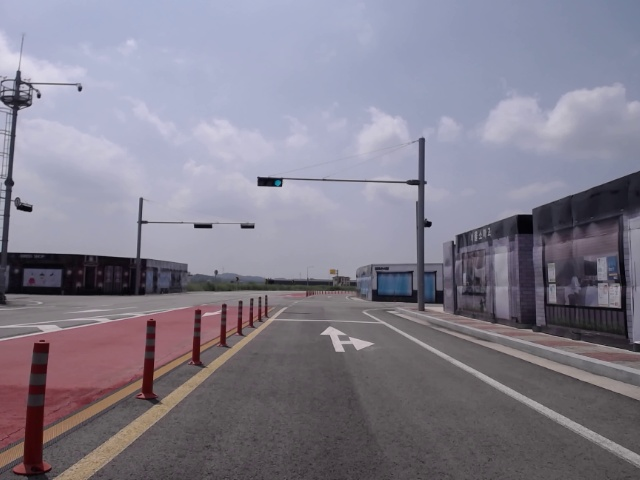green_3: (257, 177, 283, 187)
